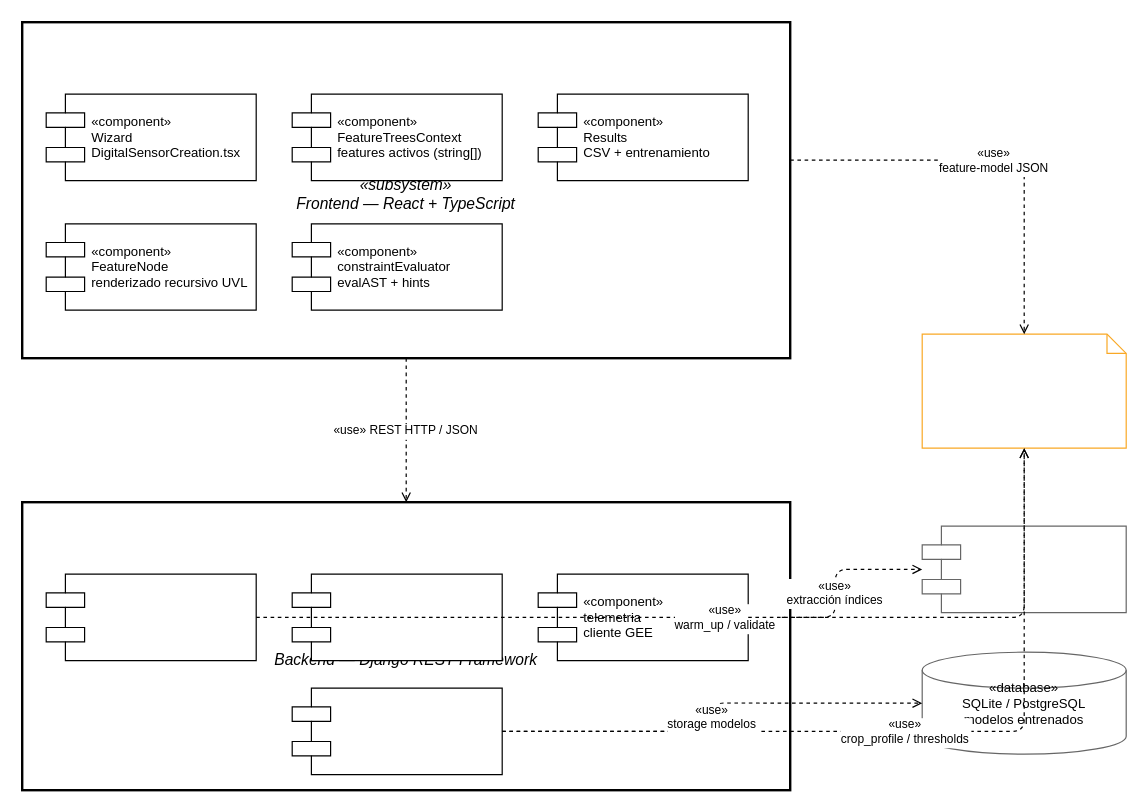
The diagram is 1147 pixels wide and 811 high, and some of its shapes have lost their labels. The shapes that lost their labels are listed below. From the top down, each one's box as (x1, y1, x2, y2) in pixels, then its label:
(921, 333, 1126, 448): «artifact» agroTrain.uvl fuente única de verdad
(921, 525, 1126, 613): «external system» Google Earth Engine Sentinel-2
(45, 573, 256, 661): «component» configurador FlamapyService + BDD
(291, 573, 502, 661): «component» geo Shapely + catálogo provincias
(291, 687, 502, 775): «component» modelos LSTM / GradientBoosting (async)
